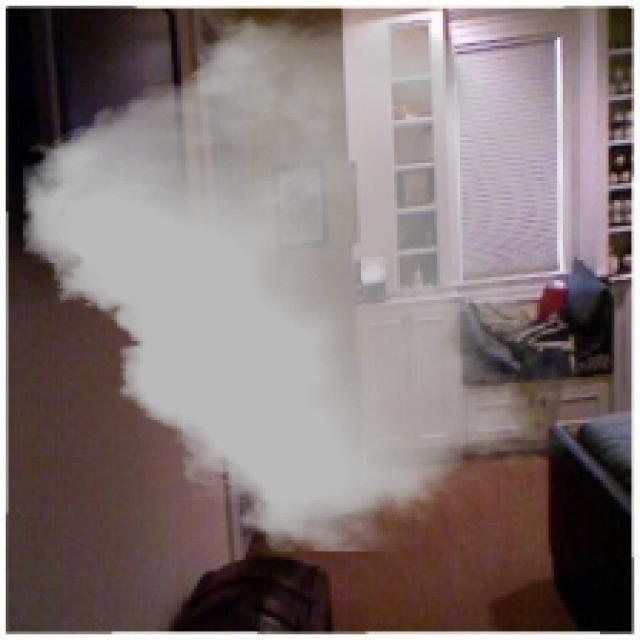smoke: (23, 9, 583, 552)
